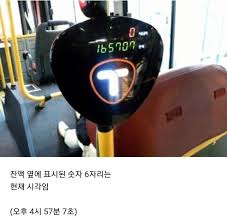terminal: (47, 14, 168, 131)
